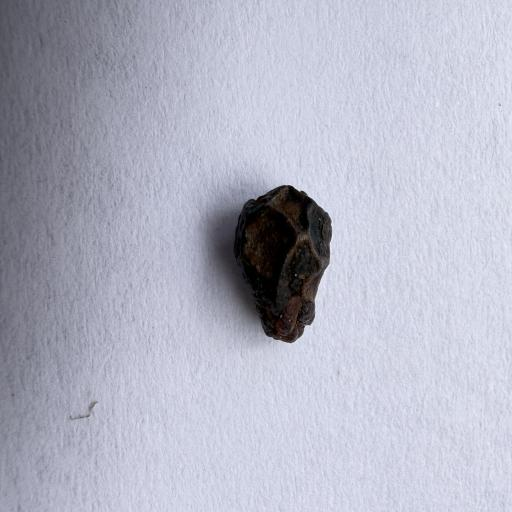Black_pepper: (228, 178, 342, 346)
